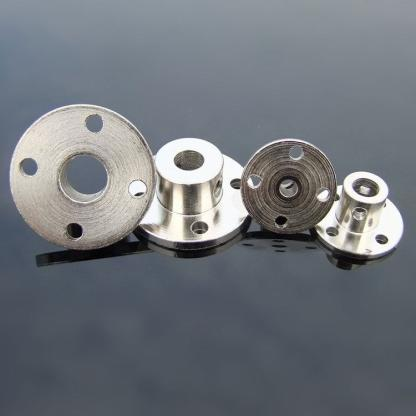FOD: (3, 100, 160, 259), (133, 134, 255, 250), (239, 139, 338, 232), (314, 168, 407, 262)
